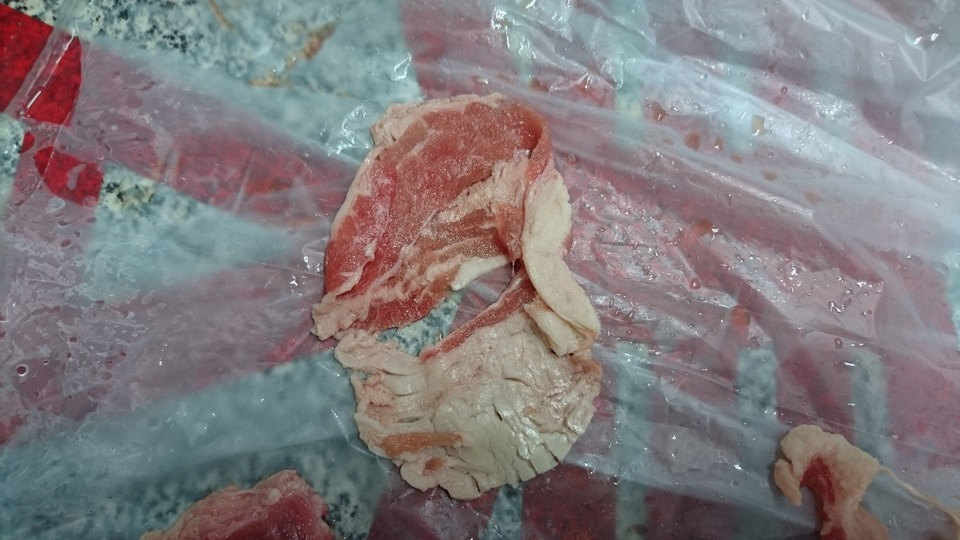restructured meat: (322, 88, 603, 504)
